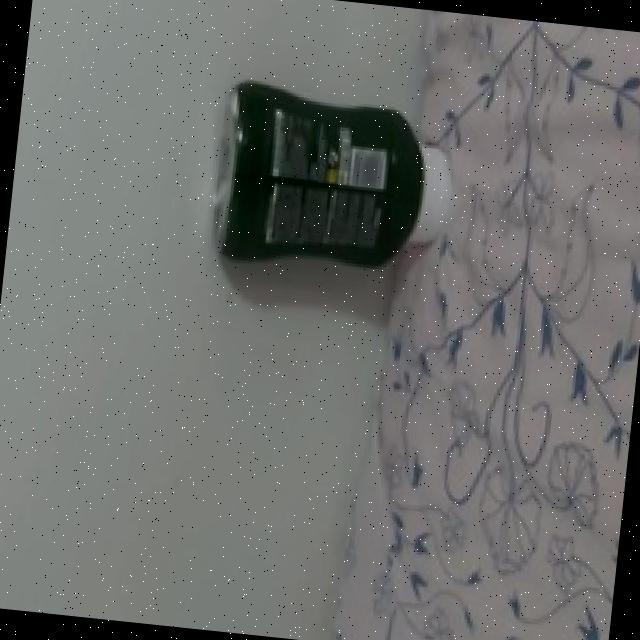bottle: (183, 69, 462, 292)
